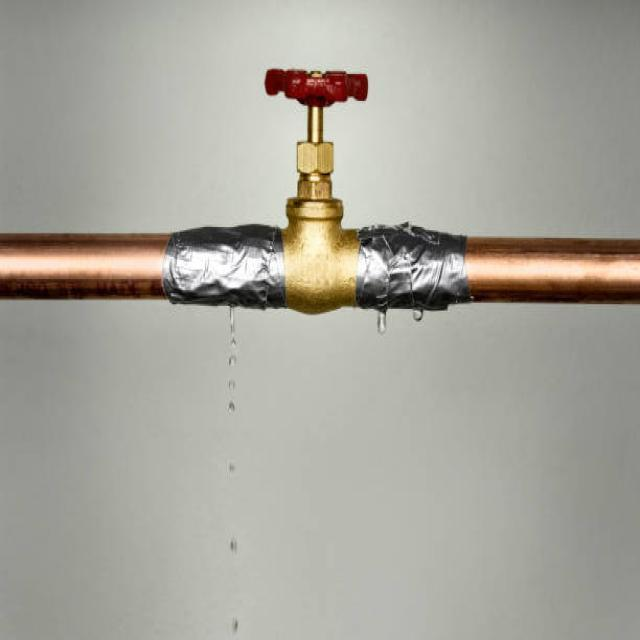water drop: (228, 302, 240, 348), (376, 310, 388, 334), (412, 306, 423, 322), (229, 538, 240, 554), (230, 616, 241, 632), (226, 459, 238, 473), (228, 400, 235, 416), (228, 355, 236, 367), (230, 380, 237, 392)
